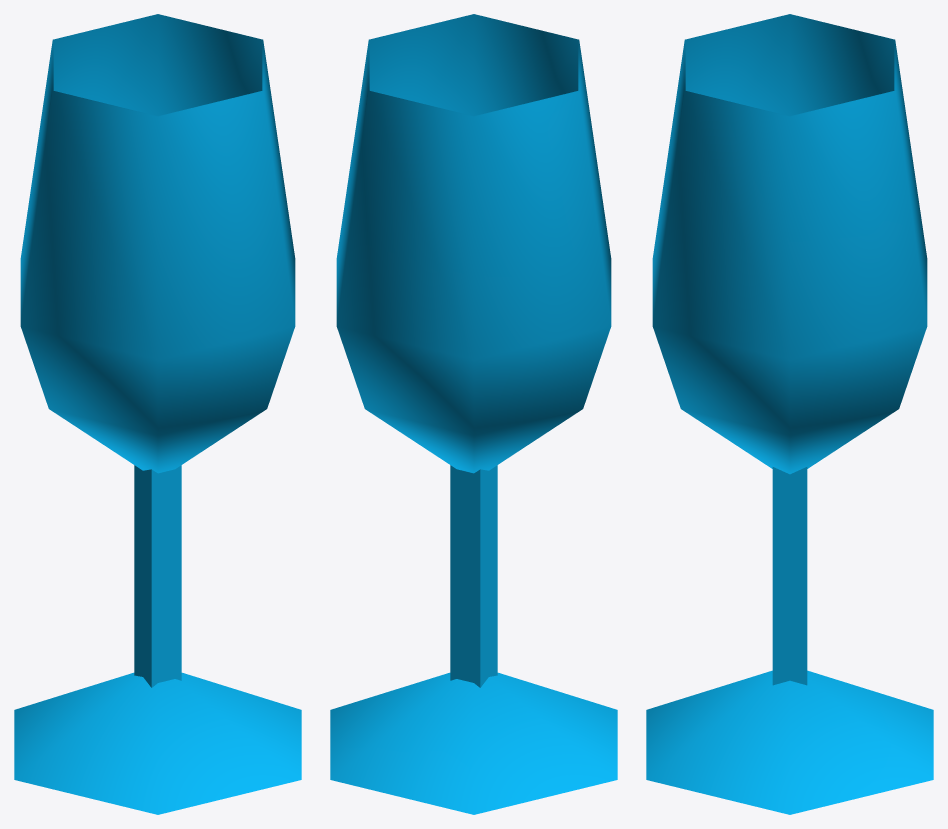
Rendered from prop_022.glb.
3 renders of one model, left to right at view 1: azimuth 30°, elevation 25°; view 2: azimuth 150°, elevation 25°; view 3: azimuth 270°, elevation 25°, orthographic.
Parts seen in each view (by area): view 1: prop_022; view 2: prop_022; view 3: prop_022.
Boxes of the visible parts, bbox=[...] form: prop_022: bbox=[14, 14, 301, 814]; prop_022: bbox=[330, 14, 617, 814]; prop_022: bbox=[646, 14, 933, 814].
Size of the model in its own units: 0.0614 by 0.1388 by 0.0532.
Materials: 1 (1 with a texture image).
